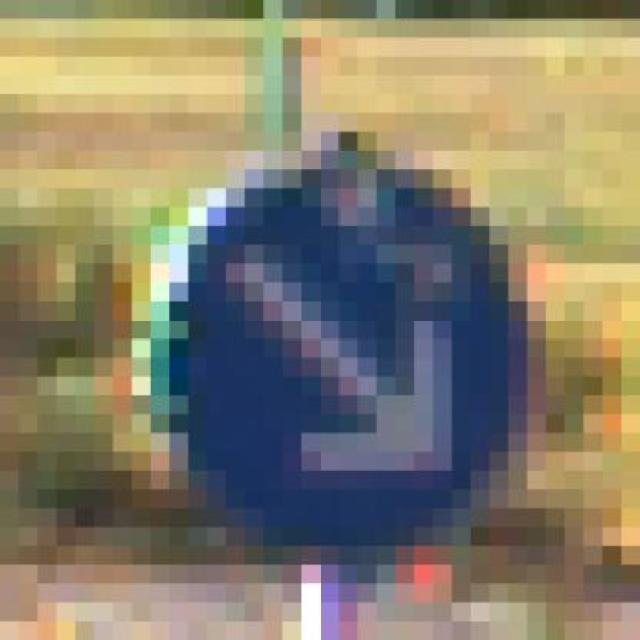Keep-Right: (112, 132, 565, 583)
